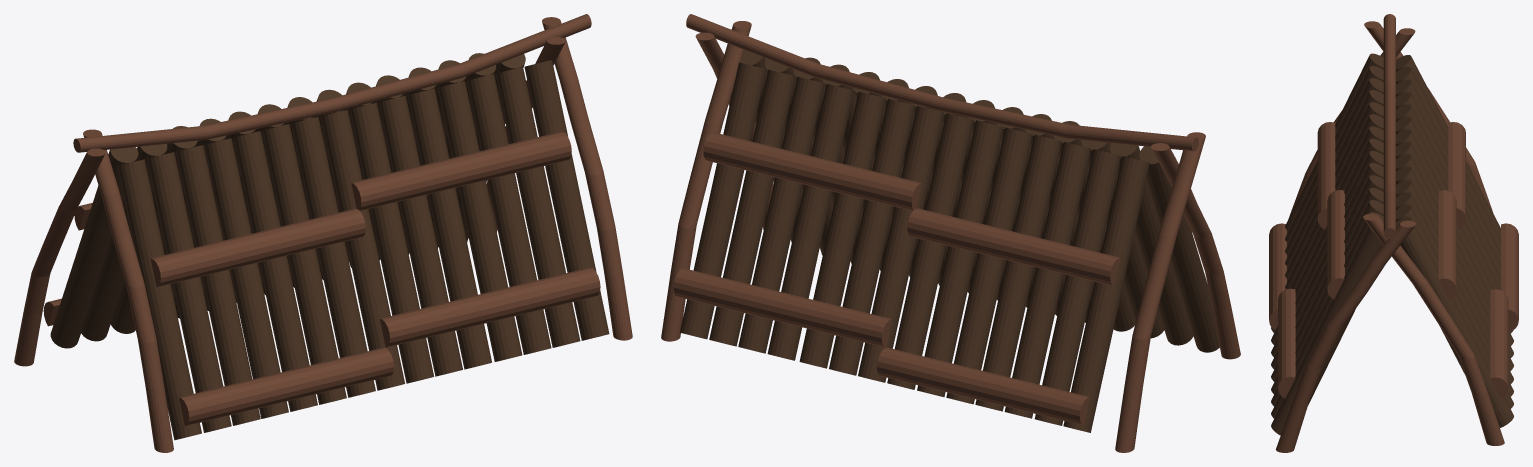
File: Tente mine 1.fbx
3 renders of one model, left to right at view 1: azimuth 30°, elevation 25°; view 2: azimuth 150°, elevation 25°; view 3: azimuth 270°, elevation 25°, orthographic. The views are drawn at different scales.
Visible parts, largest first — view 1: bois haut dessus, rodin de bois coter habitation.014, soutiens bois, soutiens bois .003, rodin de bois coter habitation.015, soutiens bois .002, rodin de bois coter habitation.008, rodin de bois coter habitation.011, rodin de bois coter habitation.001, rodin de bois coter habitation.002, rodin de bois coter habitation.006, rodin de bois coter habitation.007 (+16 smaller); view 2: bois haut dessus, rodin de bois coter habitation.028, soutiens bois .007, soutiens bois .004, soutiens bois .005, soutiens bois .006, rodin de bois coter habitation.016, rodin de bois coter habitation.025, rodin de bois coter habitation, rodin de bois coter habitation.023, rodin de bois coter habitation.018, rodin de bois coter habitation.021 (+19 smaller); view 3: bois coter 1, bois coter 2, bois haut dessus, rodin de bois coter habitation, rodin de bois coter habitation.015, soutiens bois .007, soutiens bois .004, soutiens bois, soutiens bois .003, soutiens bois .002, soutiens bois .006, soutiens bois .005 (+30 smaller).
Boxes of the visible parts, x1,y1,x2,y2 form: bois haut dessus: [73, 14, 591, 152]; rodin de bois coter habitation.014: [117, 159, 201, 440]; soutiens bois: [379, 267, 600, 347]; soutiens bois .003: [351, 131, 571, 210]; rodin de bois coter habitation.015: [524, 60, 609, 340]; soutiens bois .002: [150, 208, 365, 287]; rodin de bois coter habitation.008: [291, 117, 375, 397]; rodin de bois coter habitation.011: [204, 138, 288, 418]; rodin de bois coter habitation.001: [495, 67, 580, 347]; rodin de bois coter habitation.002: [466, 74, 551, 354]; rodin de bois coter habitation.006: [378, 95, 462, 376]; rodin de bois coter habitation.007: [407, 88, 491, 369]; bois haut dessus: [686, 14, 1198, 151]; rodin de bois coter habitation.028: [1063, 156, 1149, 432]; soutiens bois .007: [673, 268, 891, 347]; soutiens bois .004: [703, 132, 921, 210]; soutiens bois .005: [907, 208, 1120, 286]; soutiens bois .006: [877, 347, 1089, 425]; rodin de bois coter habitation.016: [709, 69, 795, 346]; rodin de bois coter habitation.025: [1004, 142, 1090, 418]; rodin de bois coter habitation: [680, 62, 766, 339]; rodin de bois coter habitation.023: [917, 120, 1003, 396]; rodin de bois coter habitation.018: [738, 76, 824, 353]; rodin de bois coter habitation.021: [829, 99, 915, 375]; bois coter 1: [1276, 220, 1415, 452]; bois coter 2: [1363, 213, 1504, 445]; bois haut dessus: [1383, 14, 1395, 239]; rodin de bois coter habitation: [1396, 217, 1513, 427]; rodin de bois coter habitation.015: [1271, 226, 1382, 435]; soutiens bois .007: [1490, 289, 1508, 398]; soutiens bois .004: [1438, 190, 1456, 299]; soutiens bois: [1278, 288, 1295, 398]; soutiens bois .003: [1327, 190, 1344, 299]; soutiens bois .002: [1317, 122, 1335, 229]; soutiens bois .006: [1501, 223, 1518, 330]; soutiens bois .005: [1448, 122, 1465, 229].
Size of the model in its own units: 810 by 410 by 399.
